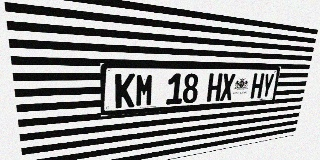1: (166, 73, 184, 105)
8: (182, 73, 199, 104)
H: (206, 73, 223, 102), (250, 73, 265, 99)
K: (115, 74, 135, 108)
M: (135, 74, 154, 107)
X: (220, 73, 235, 101)
Y: (261, 73, 275, 98)
